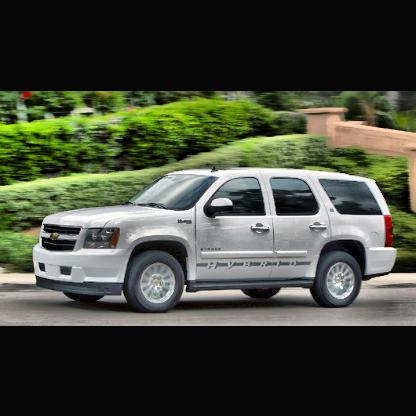Chevrolet Tahoe Hybrid SUV 2012: (33, 166, 400, 315)
